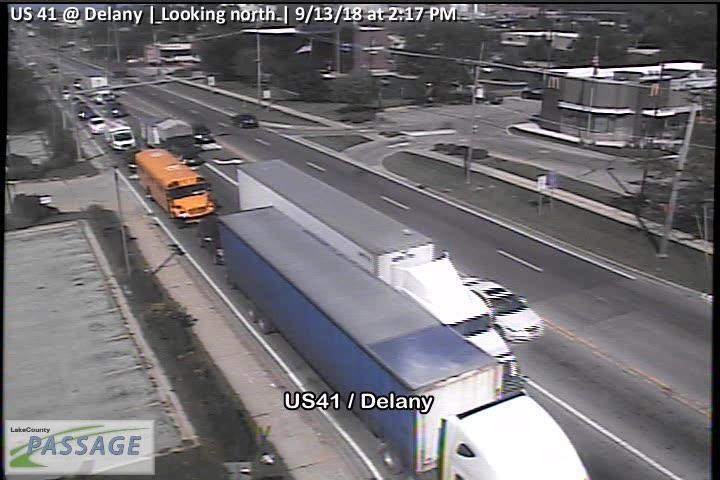Bus: (134, 145, 218, 228), (145, 40, 213, 65)
SUV: (106, 124, 136, 151)
Sedan: (460, 273, 545, 343), (198, 212, 233, 265), (191, 124, 216, 145), (229, 113, 259, 130), (102, 101, 127, 117), (84, 117, 107, 134), (482, 90, 505, 104), (521, 85, 542, 100), (75, 104, 92, 117)
Truck: (219, 205, 594, 480), (236, 157, 520, 402), (141, 117, 206, 165), (83, 74, 114, 103)
